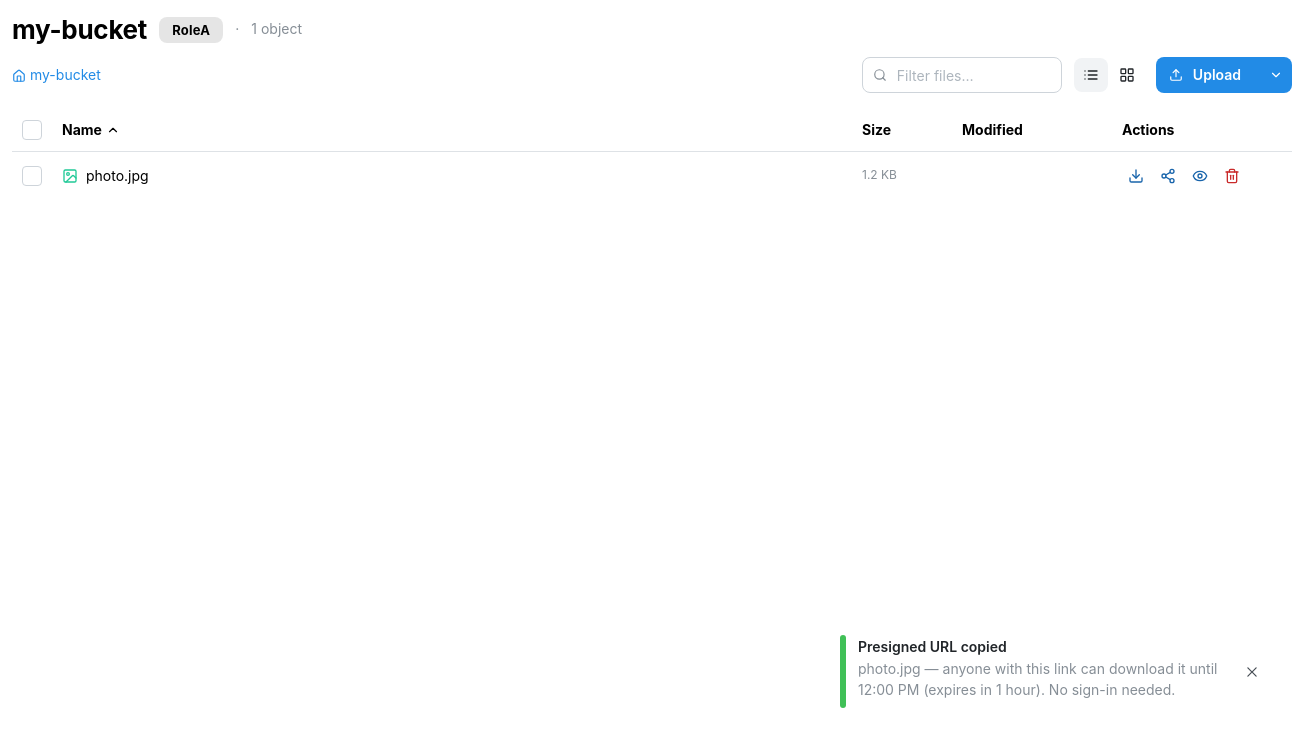
Test case: FileBrowser Copy URL › shows a yellow warning toast when the response carries a warning
Click the button named "Copy URL" at (1168, 176), box [1154, 162, 1182, 190]
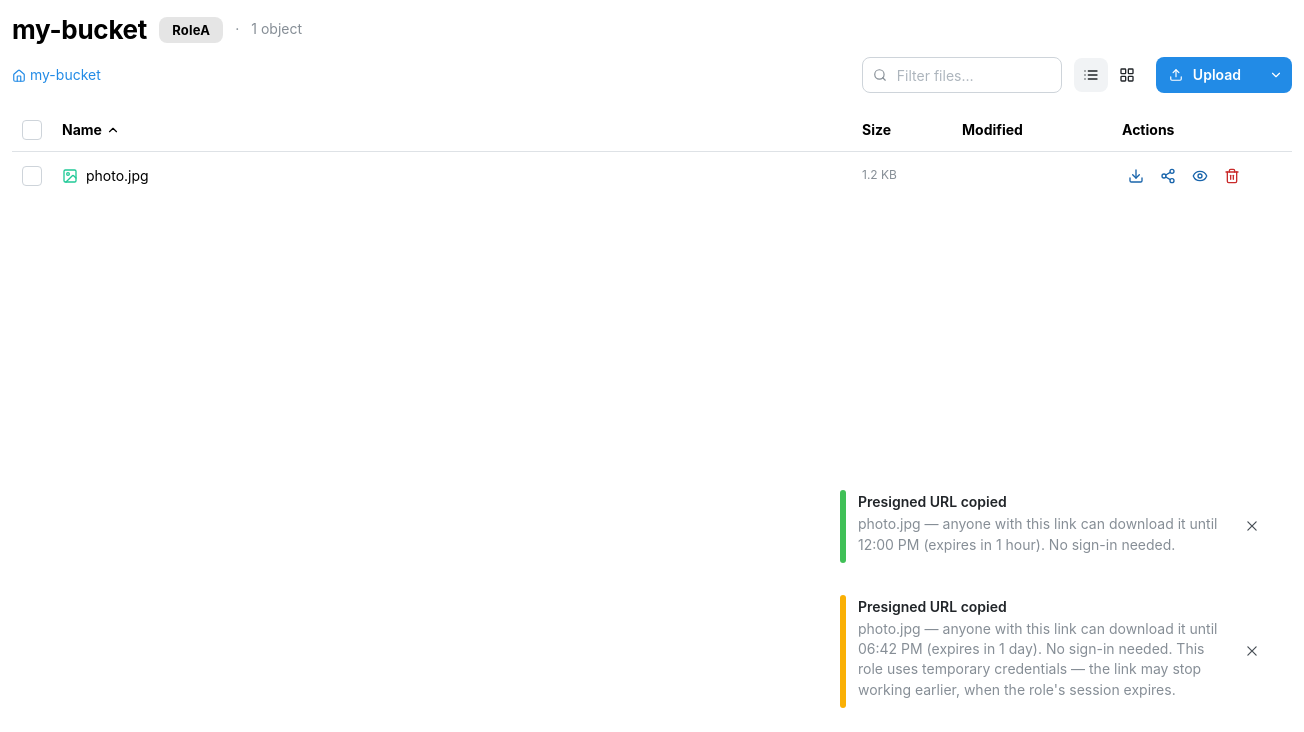
Expected: the text "temporary credentials" is shown, [858, 620, 1218, 698]
